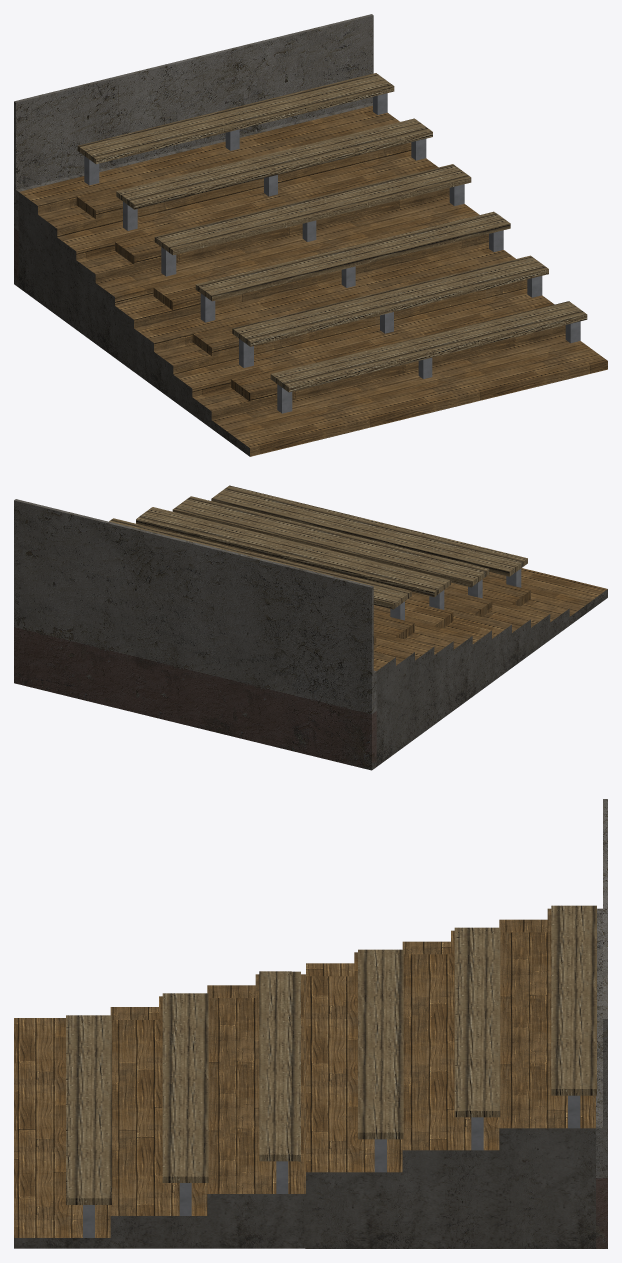
The model's file is Tiered Seating2.FBX.
3 renders of one model, top to bottom at view 1: azimuth 30°, elevation 25°; view 2: azimuth 150°, elevation 25°; view 3: azimuth 270°, elevation 25°, orthographic. The views are drawn at different scales.
Visible parts, largest first — view 1: Box002; view 2: Box002; view 3: Box002.
Boxes of the visible parts, left/top/right/bottom form: Box002: left=14, top=14, right=607, bottom=456; Box002: left=14, top=485, right=607, bottom=770; Box002: left=14, top=799, right=607, bottom=1248.
Bounding box in the file's own units: 215 × 105 × 246.
Materials: 1 (1 with a texture image).
